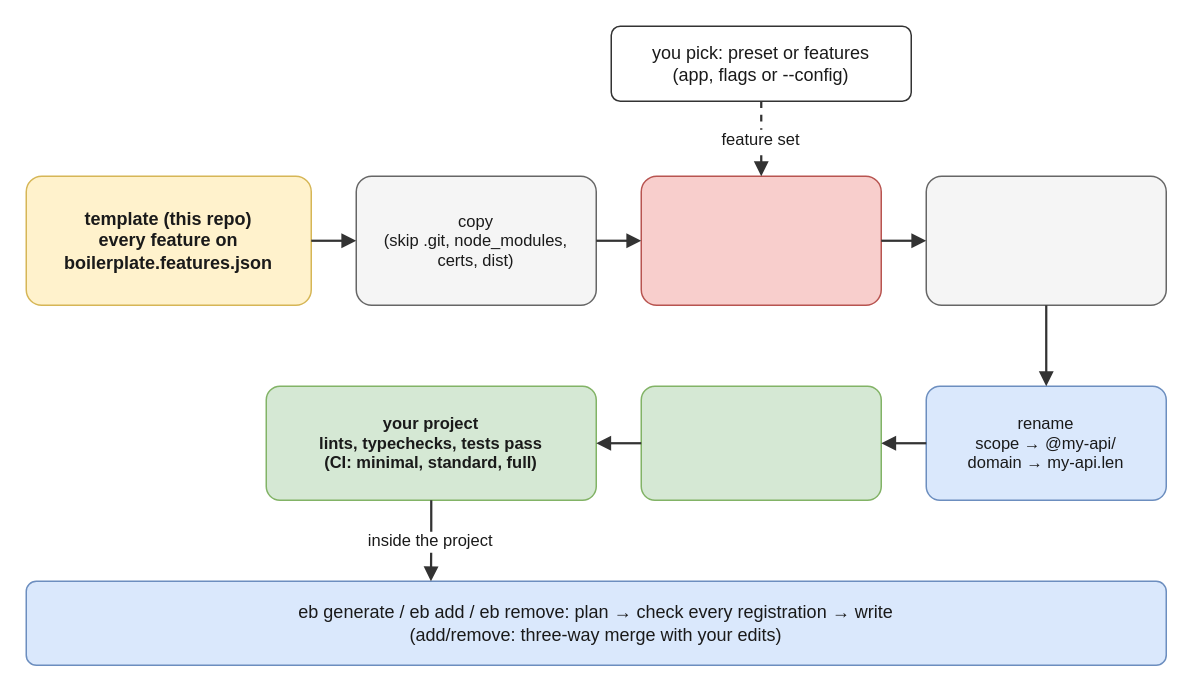
This 1193x692 diagram has some shape labels left out. The shapes that lost their labels are listed below. From the top down, each one's centre as x and y in pixels, then its label:
At [760,240]: "cut remove files of features not picked; strip @feature blocks".
At [1045,240]: "tidy prune unused imports, drop dependencies, keep fallbacks".
At [760,442]: "install + format write boilerplate.json".
